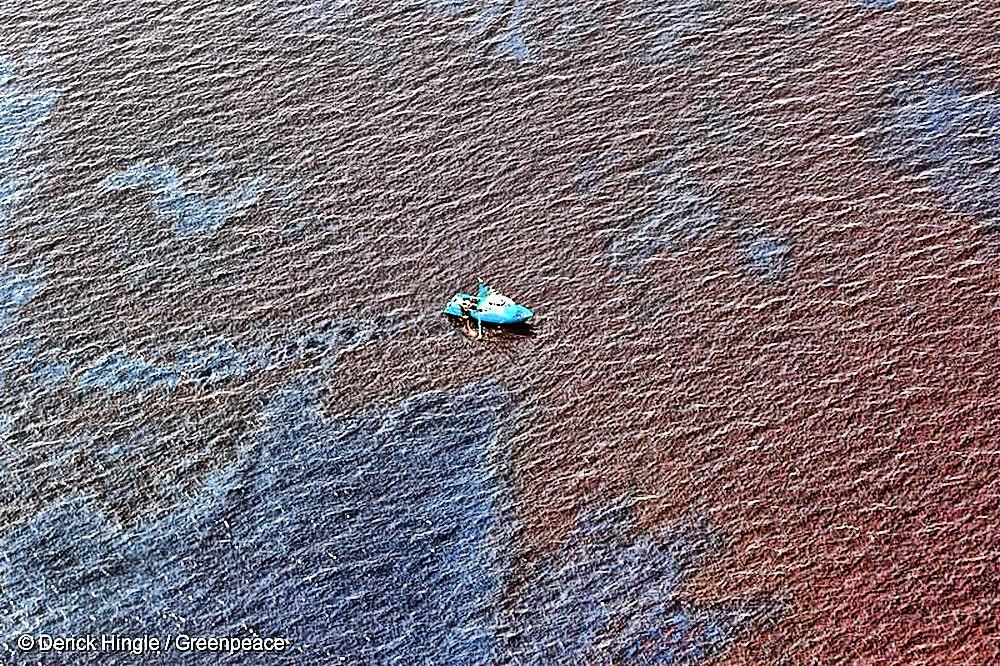truecolor: (330, 2, 1000, 664), (0, 3, 467, 530)
